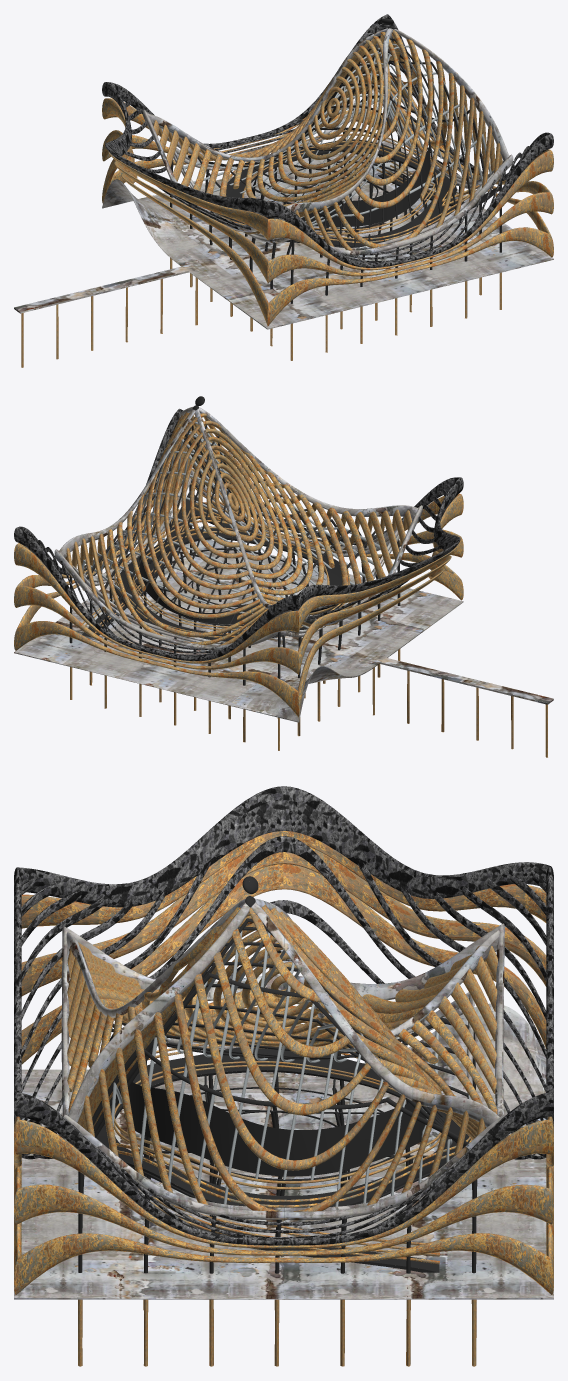
The picture shows the model from 3 angles, top to bottom: view 1: azimuth 30°, elevation 25°; view 2: azimuth 150°, elevation 25°; view 3: azimuth 270°, elevation 25°; orthographic projection. The views are drawn at different scales.
Parts seen in each view (by area): view 1: PotbellQFu-v3-20230monster 1, Merged Objects, Merged Objects 2; view 2: Merged Objects, PotbellQFu-v3-20230monster 1, Merged Objects 2; view 3: PotbellQFu-v3-20230monster 1, Merged Objects, Merged Objects 2.
Part boxes in pixels (x1=…): PotbellQFu-v3-20230monster 1: x1=14, y1=14, x2=553, y2=329; Merged Objects: x1=21, y1=30, x2=553, y2=367; Merged Objects 2: x1=170, y1=18, x2=501, y2=303; Merged Objects: x1=14, y1=411, x2=547, y2=757; PotbellQFu-v3-20230monster 1: x1=14, y1=406, x2=553, y2=722; Merged Objects 2: x1=69, y1=396, x2=400, y2=685; PotbellQFu-v3-20230monster 1: x1=14, y1=786, x2=553, y2=1299; Merged Objects: x1=14, y1=831, x2=553, y2=1366; Merged Objects 2: x1=78, y1=876, x2=477, y2=1273.
Bounding box in the file's own units: 67.09 × 37.81 × 42.21.
Materials: 5 (3 with a texture image).
